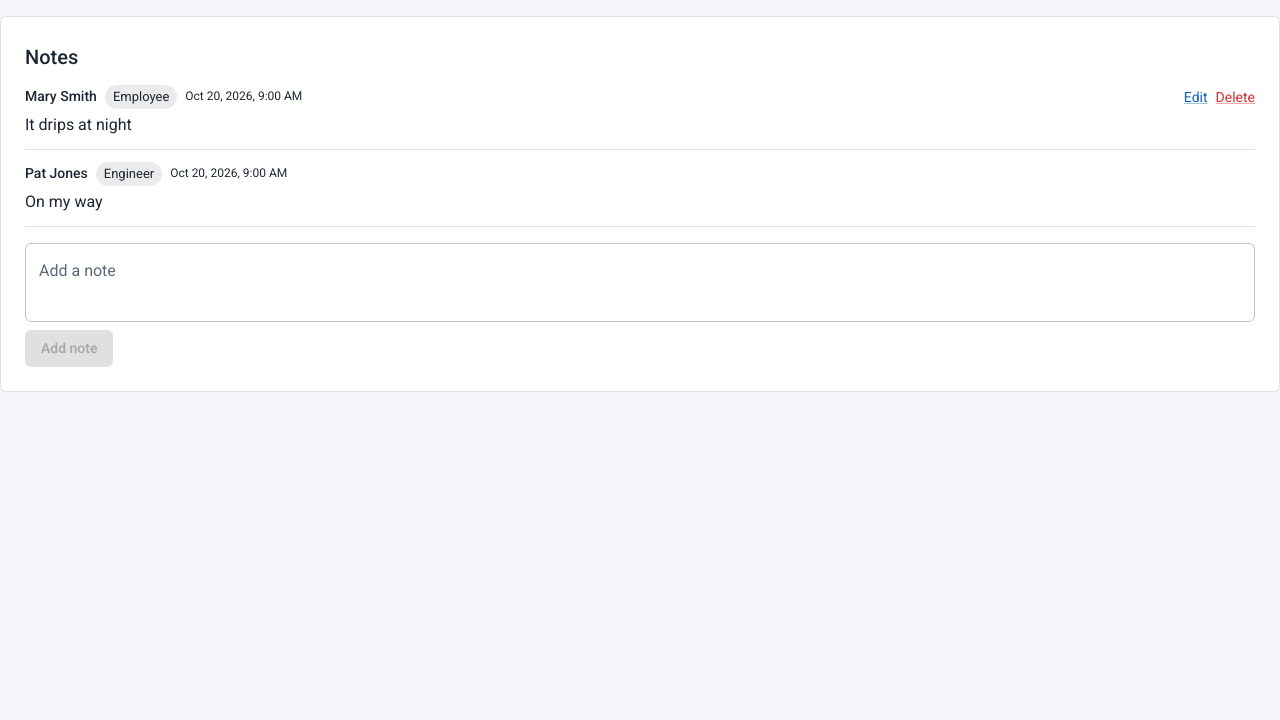
Test: TicketNotes › asks before deleting
Click the button "Delete".
click(1235, 97)  # box 1216,87 -> 1255,107
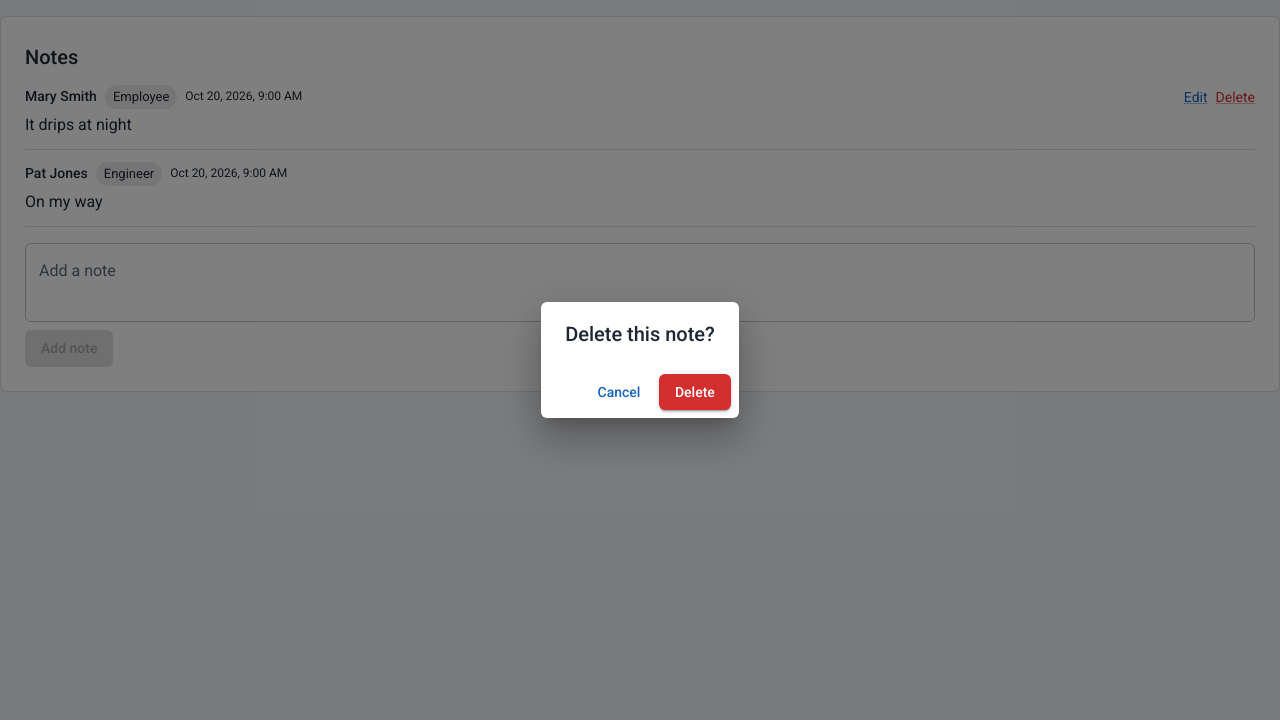
Click the button "Cancel".
click(619, 392)  # box 587,374 -> 651,410
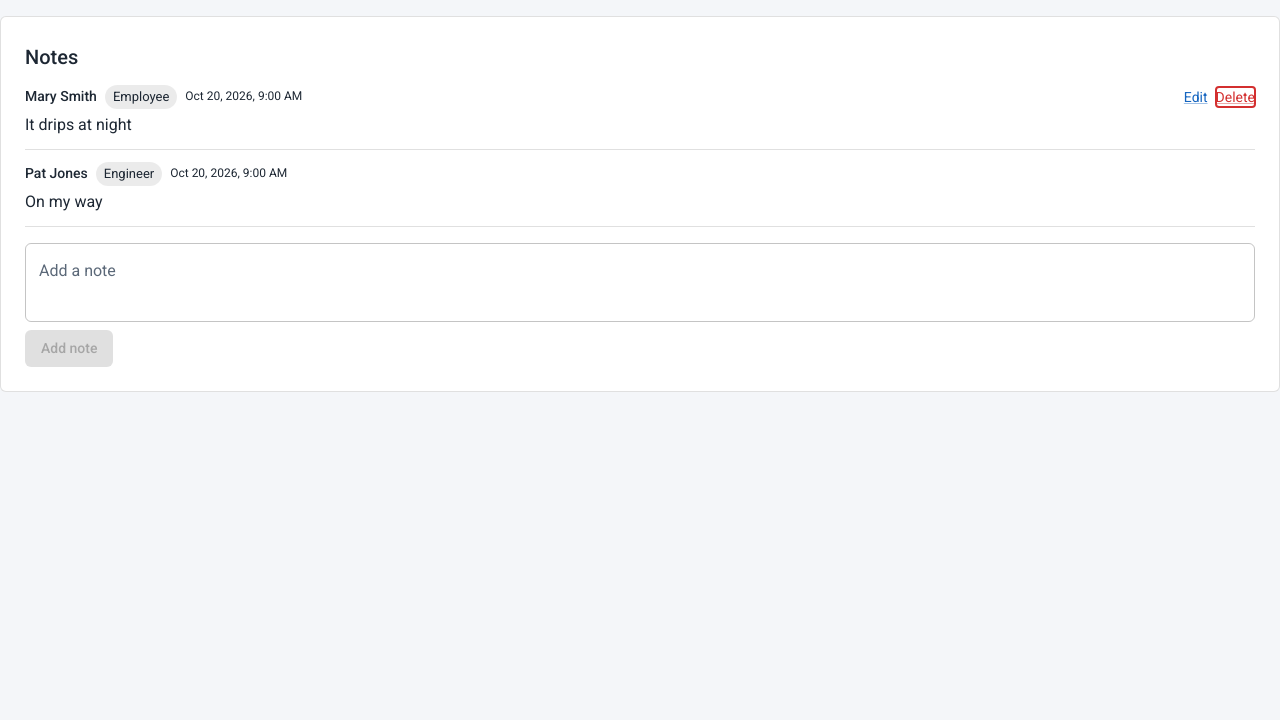
Expected: the text "It drips at night" is shown, 25,115 -> 132,134
Result: the dialog is gone
Click the button "Delete".
click(1235, 97)  # box 1216,87 -> 1255,107
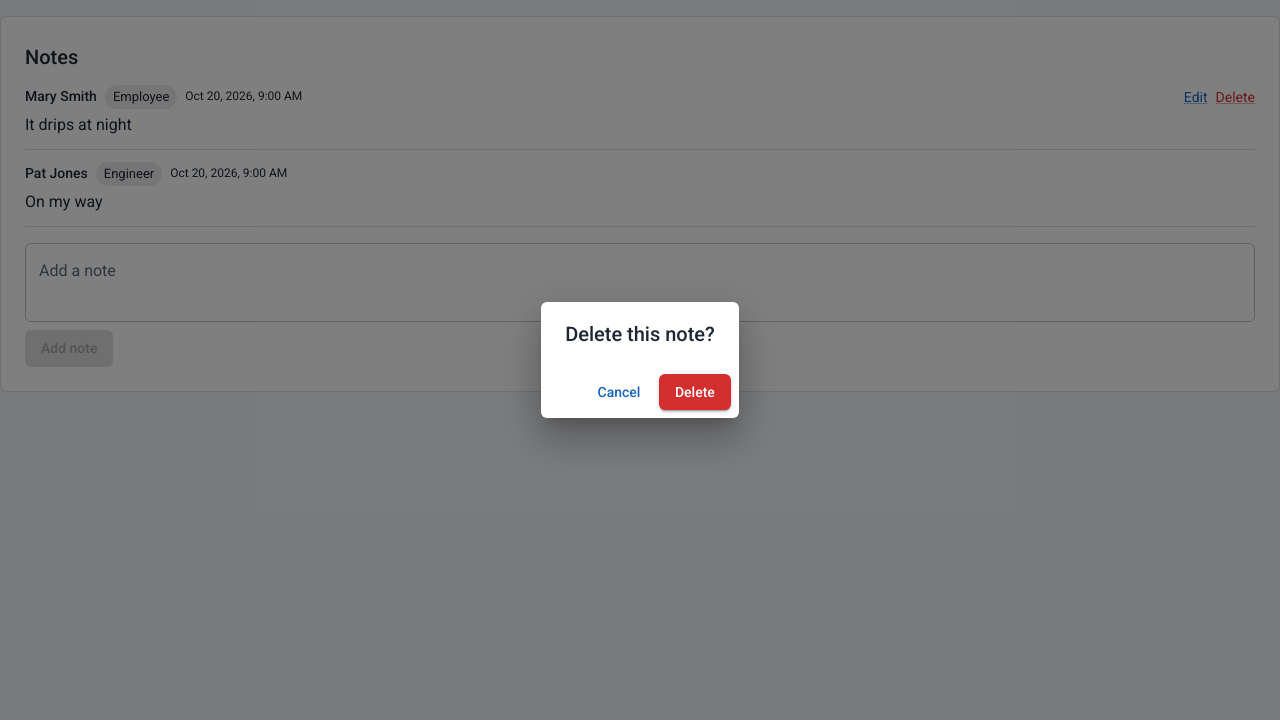
Click the button "Delete".
click(695, 392)  # box 659,374 -> 731,410
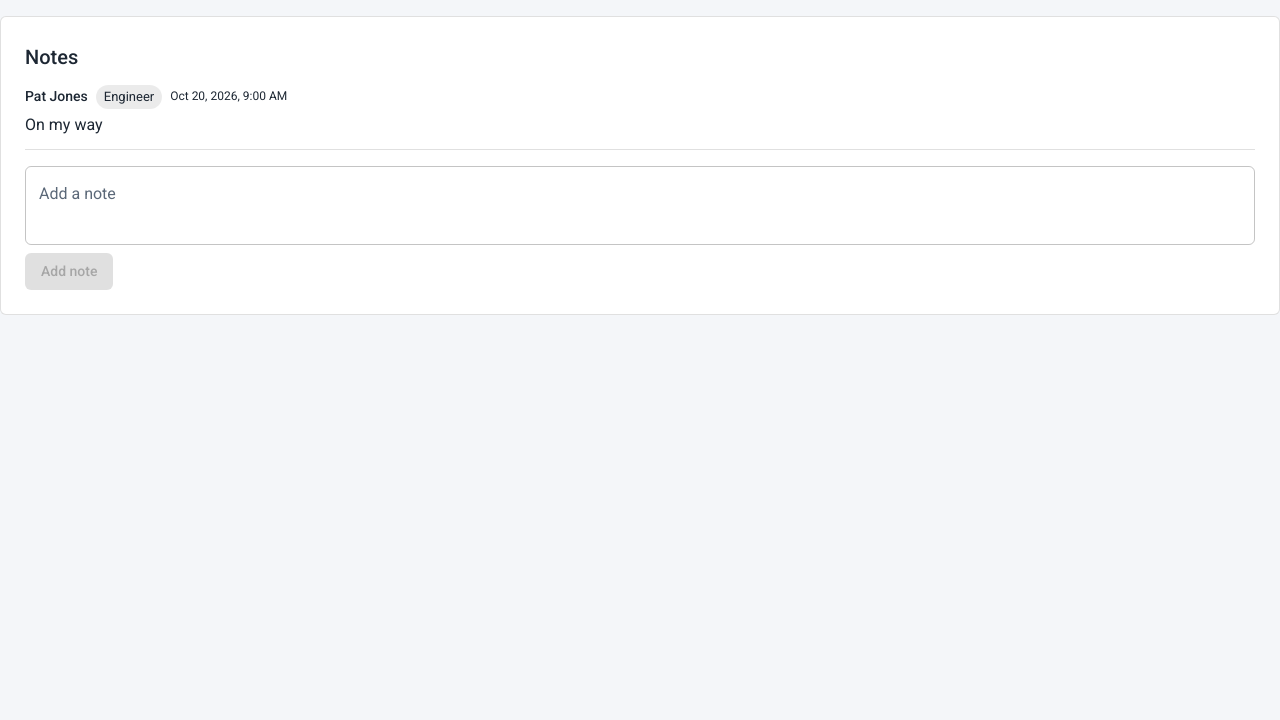
Result: the text "It drips at night" is gone
